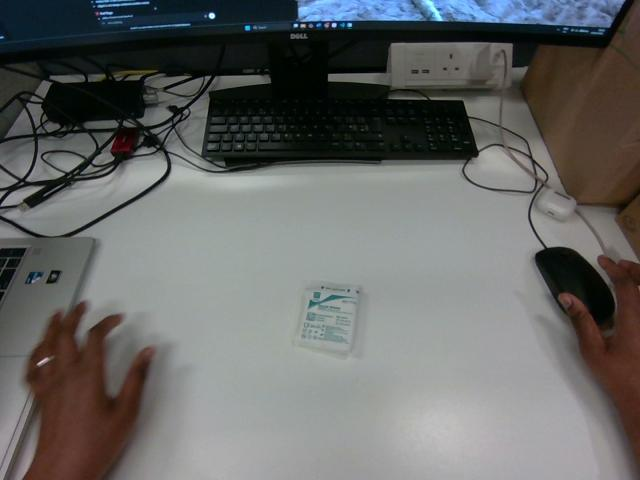gauze: (293, 284, 359, 354)
